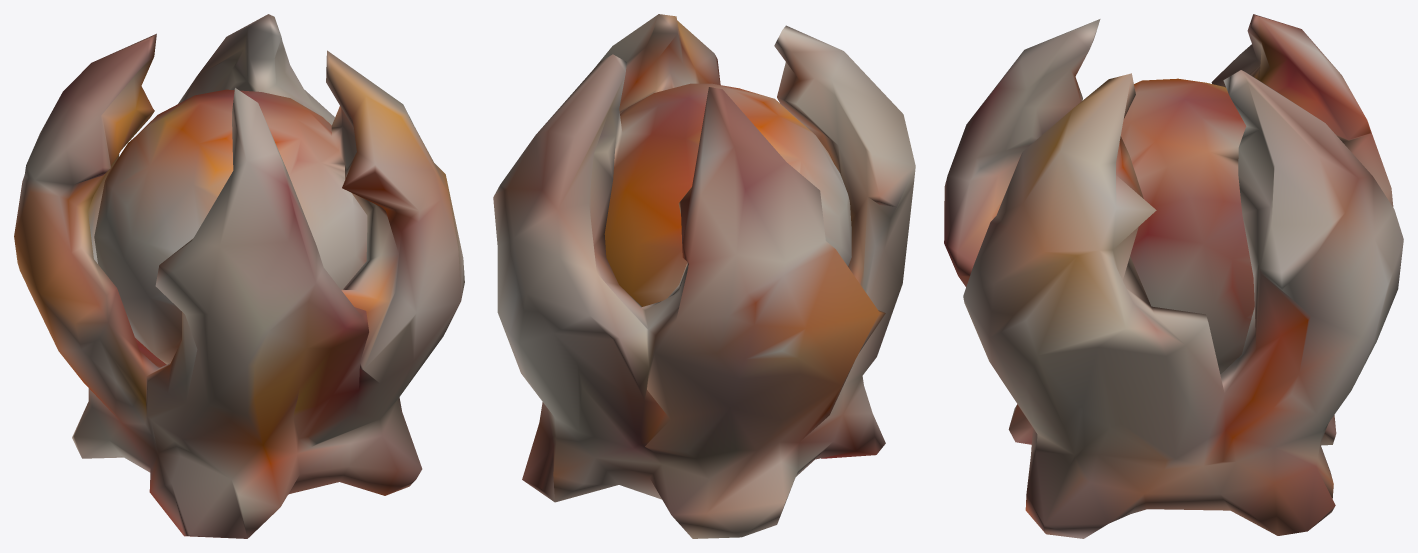
Rendered from AlphaCore_game.glb.
The picture shows the model from 3 angles, left to right: view 1: azimuth 30°, elevation 25°; view 2: azimuth 150°, elevation 25°; view 3: azimuth 270°, elevation 25°; orthographic projection. The views are drawn at different scales.
Visible parts, largest first — view 1: AlphaCore; view 2: AlphaCore; view 3: AlphaCore.
Part boxes in pixels (<box>): AlphaCore: <box>14,14,464,538</box>; AlphaCore: <box>493,14,915,538</box>; AlphaCore: <box>944,14,1403,538</box>.
Bounding box in the file's own units: 0.8616 × 0.9499 × 0.8985.
